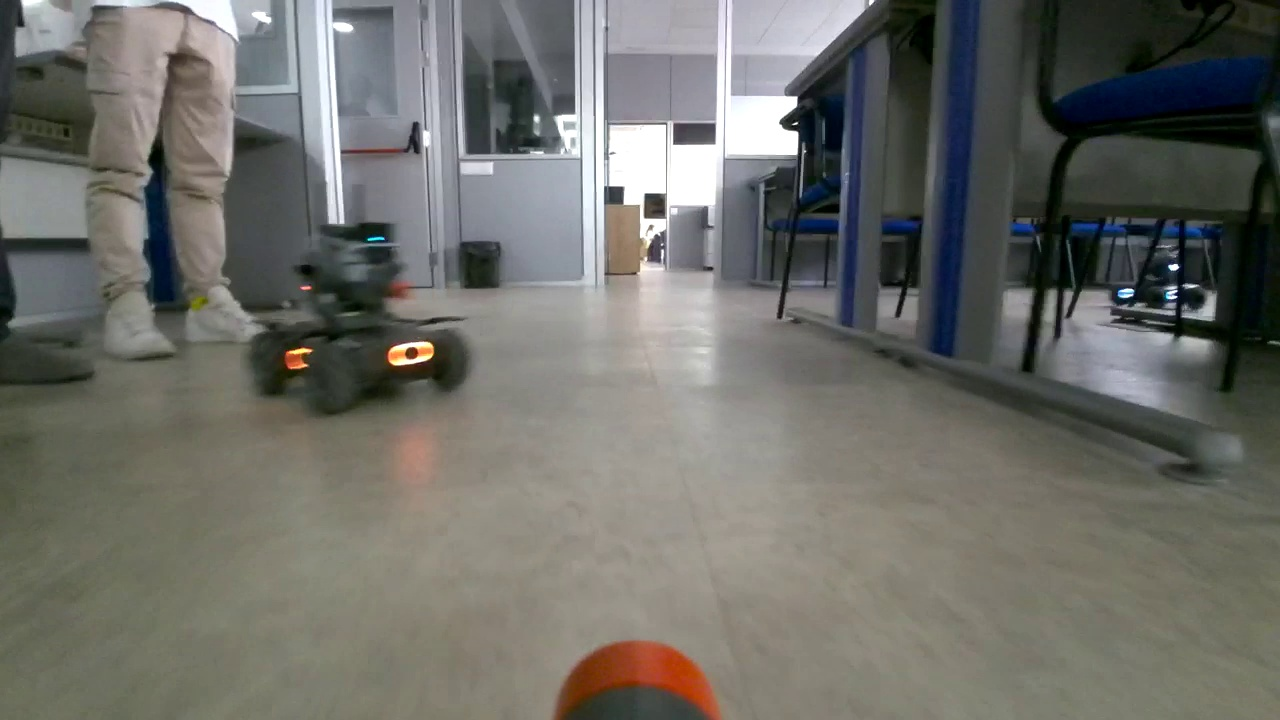robot: (247, 186, 476, 414)
